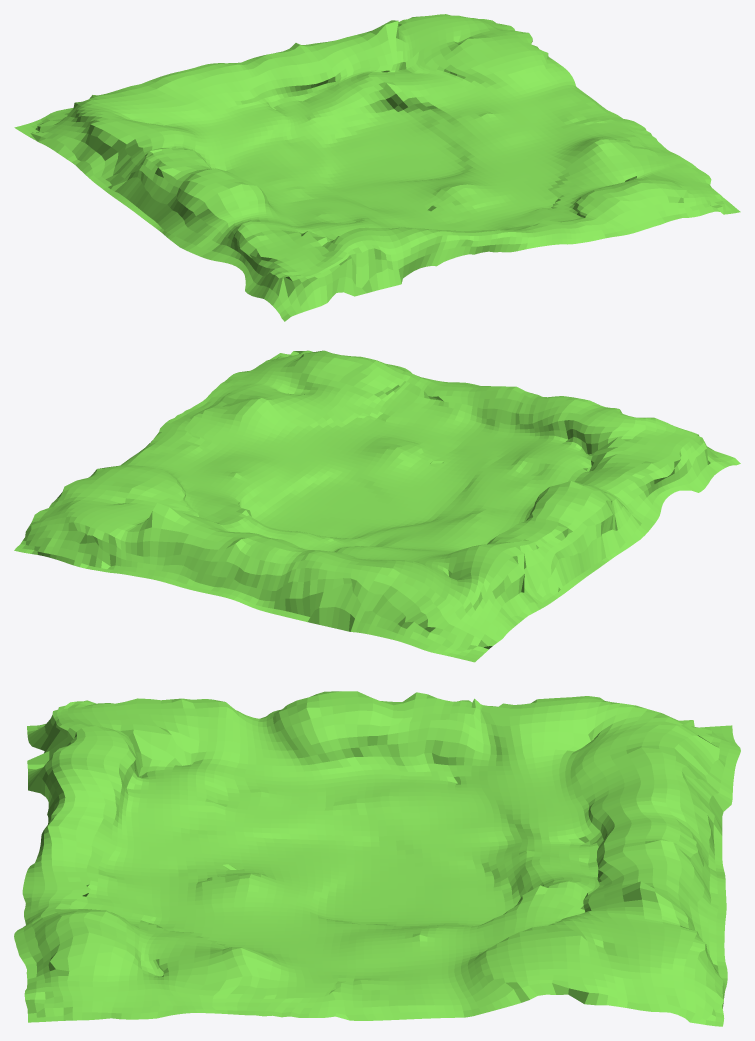
File: first_campNoColor.glb
The picture shows the model from 3 angles, top to bottom: view 1: azimuth 30°, elevation 25°; view 2: azimuth 150°, elevation 25°; view 3: azimuth 270°, elevation 25°; orthographic projection. The views are drawn at different scales.
Parts seen in each view (by area): view 1: Plane; view 2: Plane; view 3: Plane.
Part boxes in pixels (bbox=[...]): Plane: bbox=[14, 14, 740, 321]; Plane: bbox=[14, 350, 740, 662]; Plane: bbox=[14, 691, 740, 1026].
Size of the model in its own units: 61.67 by 8.21 by 62.83.
